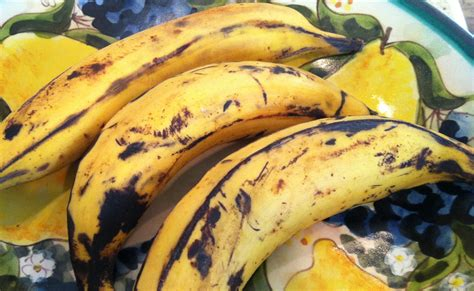banana: (65, 56, 382, 290), (1, 1, 361, 203), (130, 111, 474, 289)
